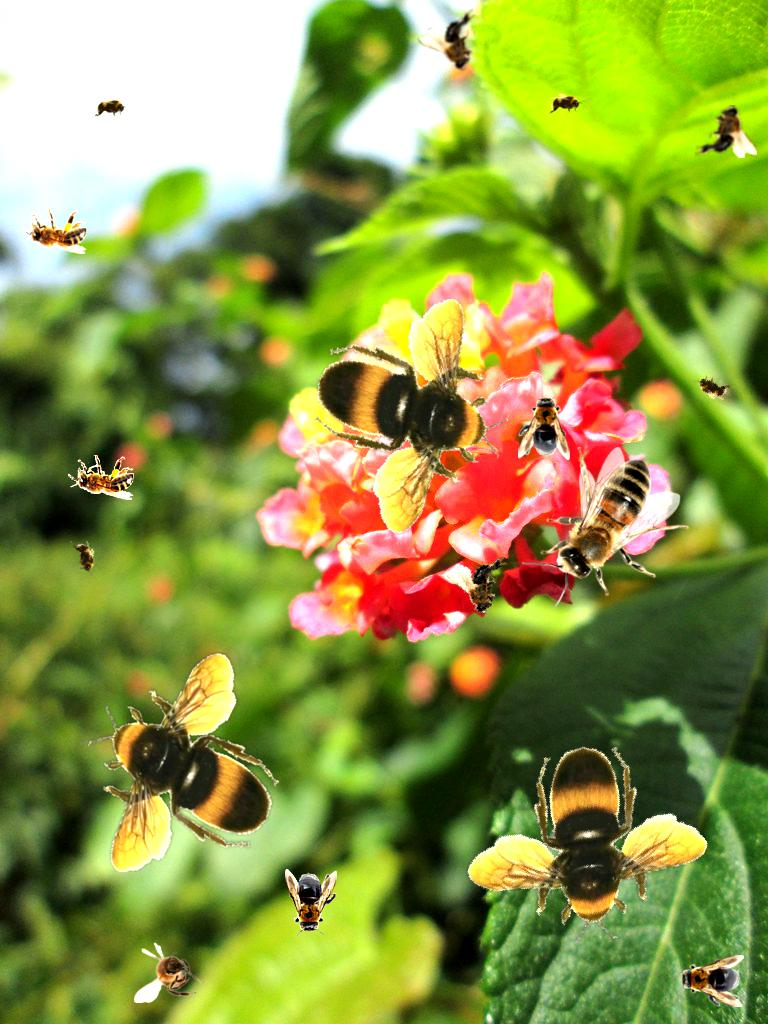Bee: (435, 708, 725, 989), (295, 292, 529, 547), (88, 652, 279, 872), (522, 447, 689, 609), (416, 5, 497, 83), (445, 552, 520, 622), (134, 942, 204, 1003), (285, 869, 337, 937), (518, 392, 570, 460), (676, 955, 744, 1007), (695, 105, 757, 158), (68, 455, 134, 500), (21, 209, 87, 254), (689, 368, 735, 406), (69, 535, 101, 581), (90, 96, 132, 120), (546, 93, 586, 115)
